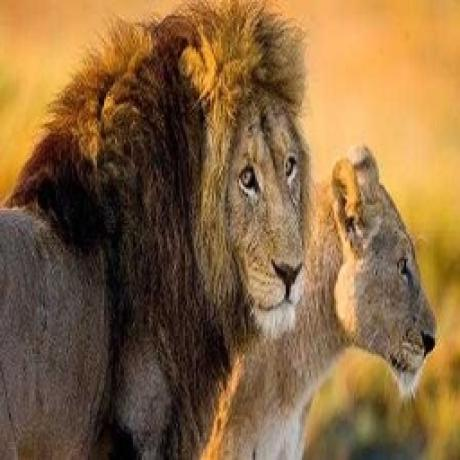Lion: (0, 0, 309, 460), (210, 142, 438, 460)
